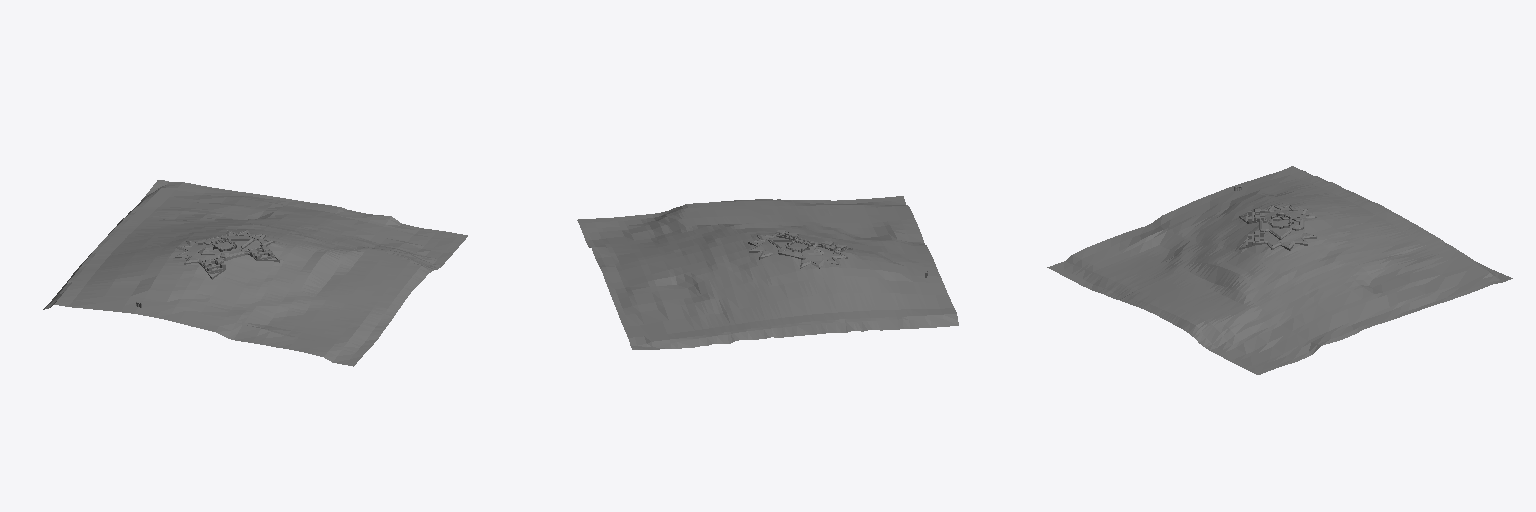
File: RoughFortBlockout.obj
The picture shows the model from 3 angles: view 1: azimuth 30°, elevation 25°; view 2: azimuth 150°, elevation 25°; view 3: azimuth 270°, elevation 25°; orthographic projection.
Parts seen in each view (by area): view 1: FortBlockout pPlane2; view 2: FortBlockout pPlane2; view 3: FortBlockout pPlane2.
Part boxes in pixels (bbox=[...]): FortBlockout pPlane2: bbox=[43, 180, 467, 366]; FortBlockout pPlane2: bbox=[577, 196, 958, 349]; FortBlockout pPlane2: bbox=[1047, 166, 1512, 374].
Bounding box in the file's own units: 40890 × 4145 × 40872.